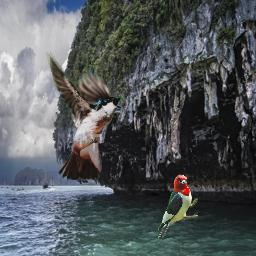Swallow: (45, 51, 123, 180)
Woodpecker: (156, 174, 198, 238)
